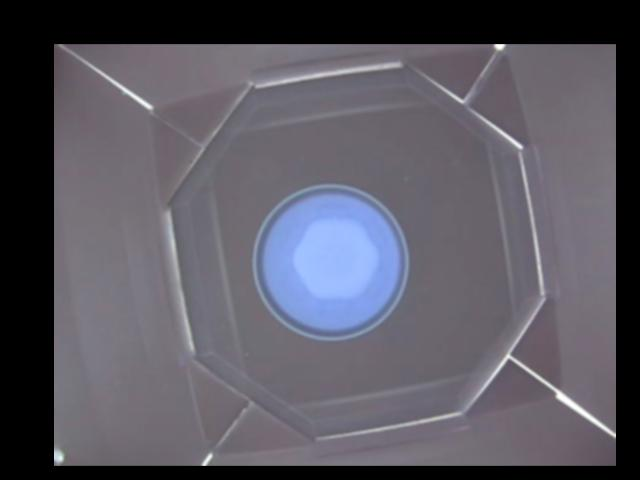Cup: (251, 183, 408, 338)
